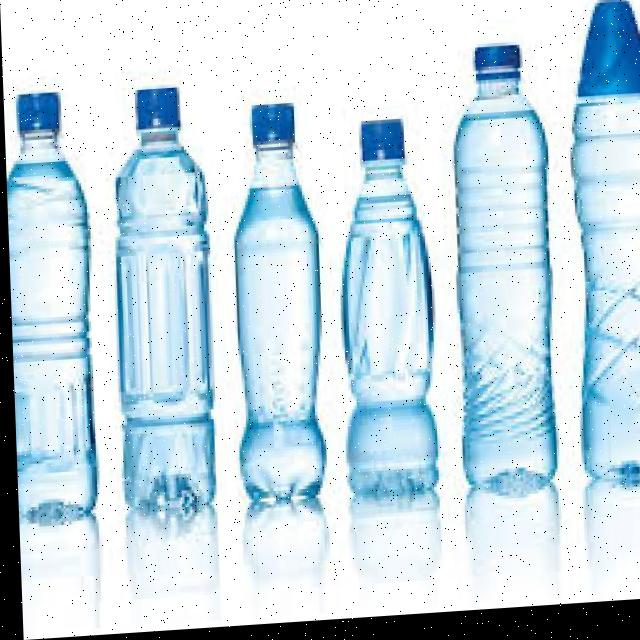bottle: (433, 26, 580, 538), (101, 75, 228, 551), (2, 75, 100, 551), (334, 115, 448, 515), (229, 91, 334, 523), (572, 0, 640, 558)
